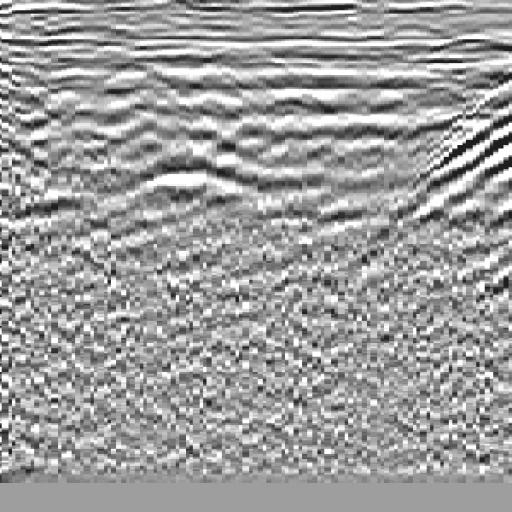metalic: (108, 54, 280, 268)
nonmetalic: (375, 59, 512, 283)
